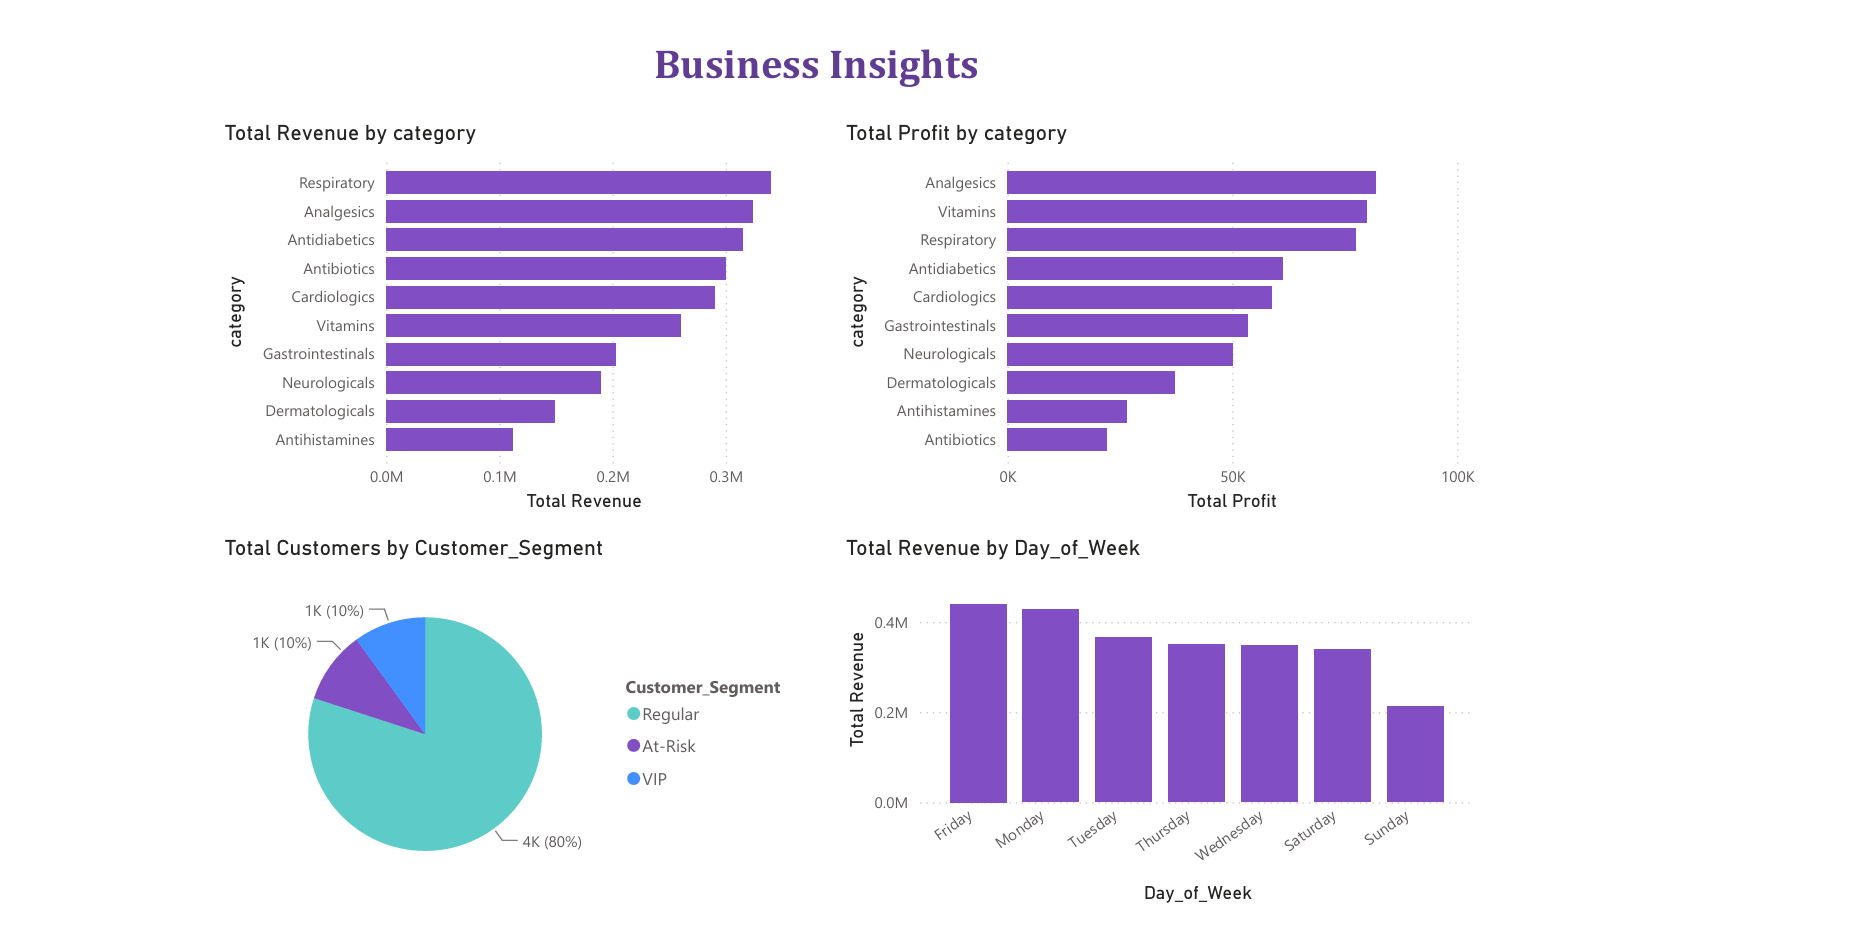

This screenshot's page, from the dashboard's own definition file:
{"tool":"powerbi","page":{"name":"Business Insights","canvas":[1280,720],"ordinal":4},"visuals":[{"type":"textbox","box":[390.1,16,446.9,54.3],"z":0},{"type":"clusteredBarChart","fields":{"Y":["processed_pharmacy_data.Total Revenue"],"Category":["processed_pharmacy_data.category"]},"box":[151.9,84,461.7,312.3],"z":1},{"type":"clusteredBarChart","fields":{"Category":["processed_pharmacy_data.category"],"Y":["processed_pharmacy_data.Total Profit"]},"box":[639.5,84,503.7,312.3],"z":2},{"type":"pieChart","fields":{"Category":["processed_pharmacy_data.Customer_Segment"],"Y":["processed_pharmacy_data.Total Customers"]},"box":[151.9,409.9,461.7,293.8],"z":3},{"type":"clusteredColumnChart","fields":{"Category":["processed_pharmacy_data.Day_of_Week"],"Y":["processed_pharmacy_data.Total Revenue"]},"box":[639.5,409.9,503.7,293.8],"z":4}]}

Visuals, with their boxes on the page's 1280x720 design canvas (x1, y1, x2, y2). These are canvas units, not pixel positions in the 1866x941 screenshot, which may show the page scaled, cropped or inside an application window:
textbox: rect(390, 16, 837, 70)
clusteredBarChart - processed_pharmacy_data.Total Revenue x processed_pharmacy_data.category: rect(152, 84, 614, 396)
clusteredBarChart - processed_pharmacy_data.category x processed_pharmacy_data.Total Profit: rect(640, 84, 1143, 396)
pieChart - processed_pharmacy_data.Customer_Segment x processed_pharmacy_data.Total Customers: rect(152, 410, 614, 704)
clusteredColumnChart - processed_pharmacy_data.Day_of_Week x processed_pharmacy_data.Total Revenue: rect(640, 410, 1143, 704)
